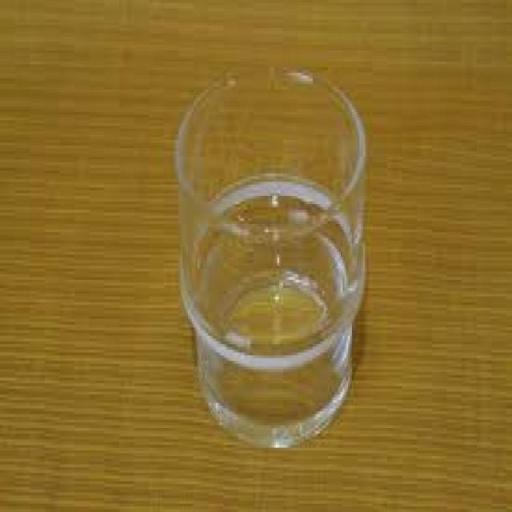glass: (162, 58, 375, 450)
